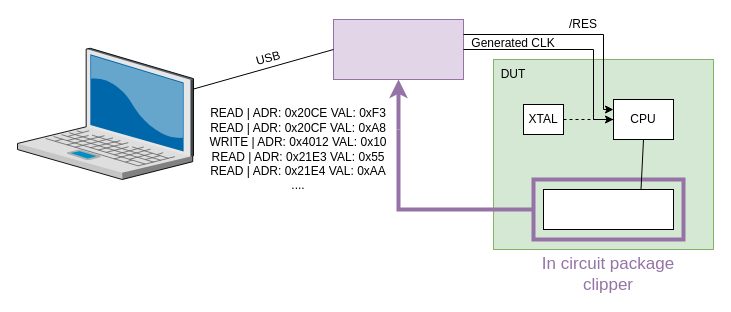
This 731x312 diagram has some shape labels left out. Here are the shapes that lost their labels. From the top down, the centre of each, then its label:
At (x=398, y=49): "PMTLeech".
At (x=608, y=209): "Parallel Memory chip".
